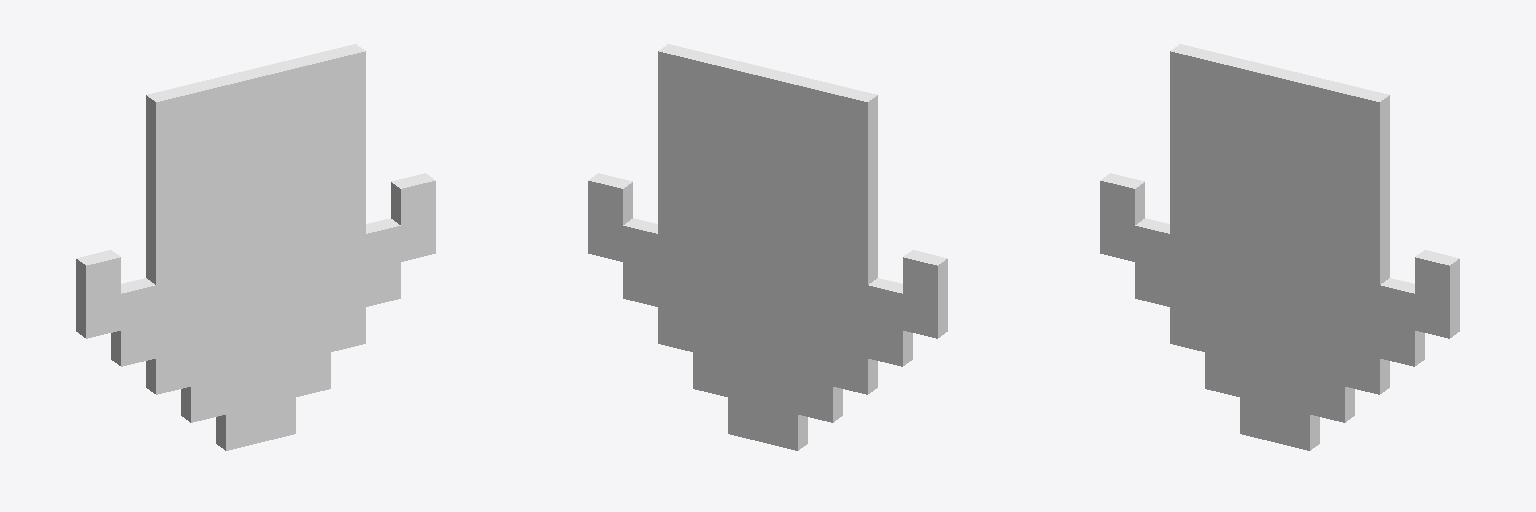
The model's file is MC_ArrowDown.obj.
3 views of the same model, side by side, from view 1: azimuth 30°, elevation 25°; view 2: azimuth 150°, elevation 25°; view 3: azimuth 330°, elevation 25° (orthographic).
Parts seen in each view (by area): view 1: MC_ArrowDown; view 2: MC_ArrowDown; view 3: MC_ArrowDown.
Boxes of the visible parts, <box> form: MC_ArrowDown: <box>76,44,435,450</box>; MC_ArrowDown: <box>588,44,947,450</box>; MC_ArrowDown: <box>1100,44,1459,450</box>.
Size of the model in its own units: 20 by 20 by 1.